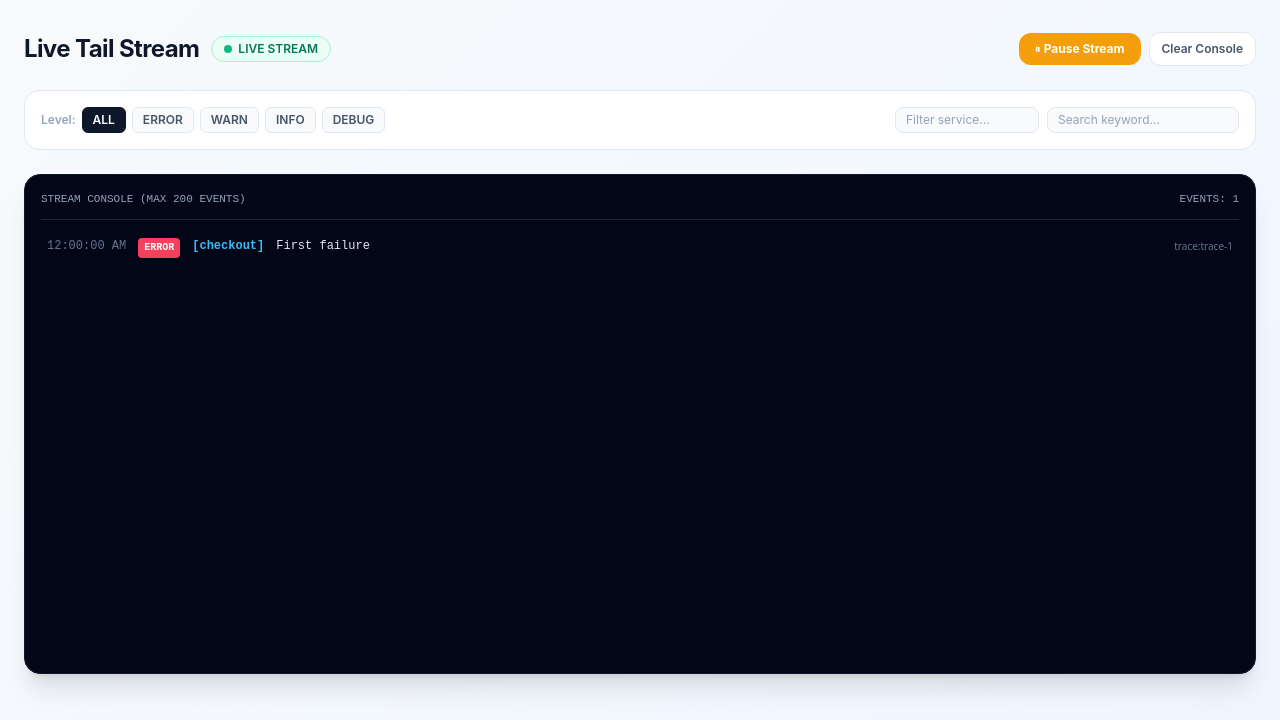
Scenario: LiveTailPage › connects, buffers while paused, resumes, filters, and clears events
Check: the text "LIVE STREAM" is shown, box [211, 36, 331, 62]
Check: the text "First failure" is shown, box [276, 239, 370, 253]
Click the button "⏸ Pause Stream" at (1080, 49), box [1019, 33, 1140, 65]
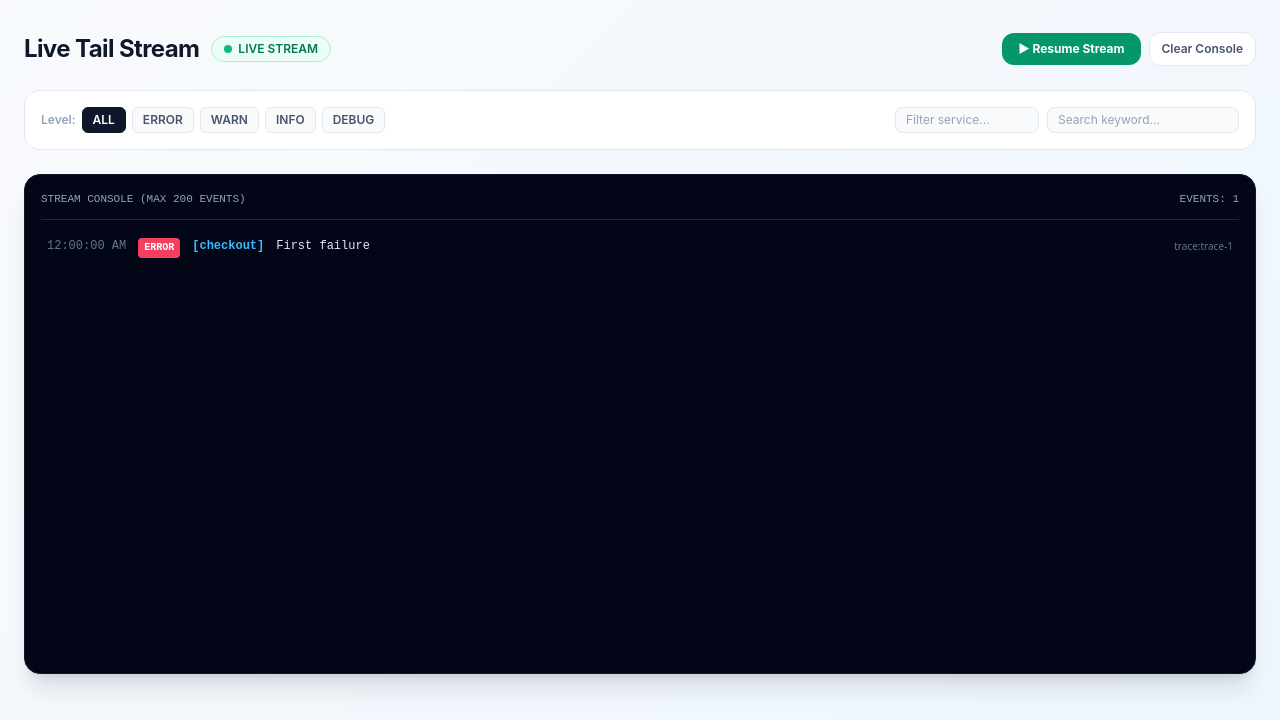
Check: the text "Buffered retry" is not shown
Click the button "▶ Resume Stream" at (1071, 49), box [1002, 33, 1140, 65]
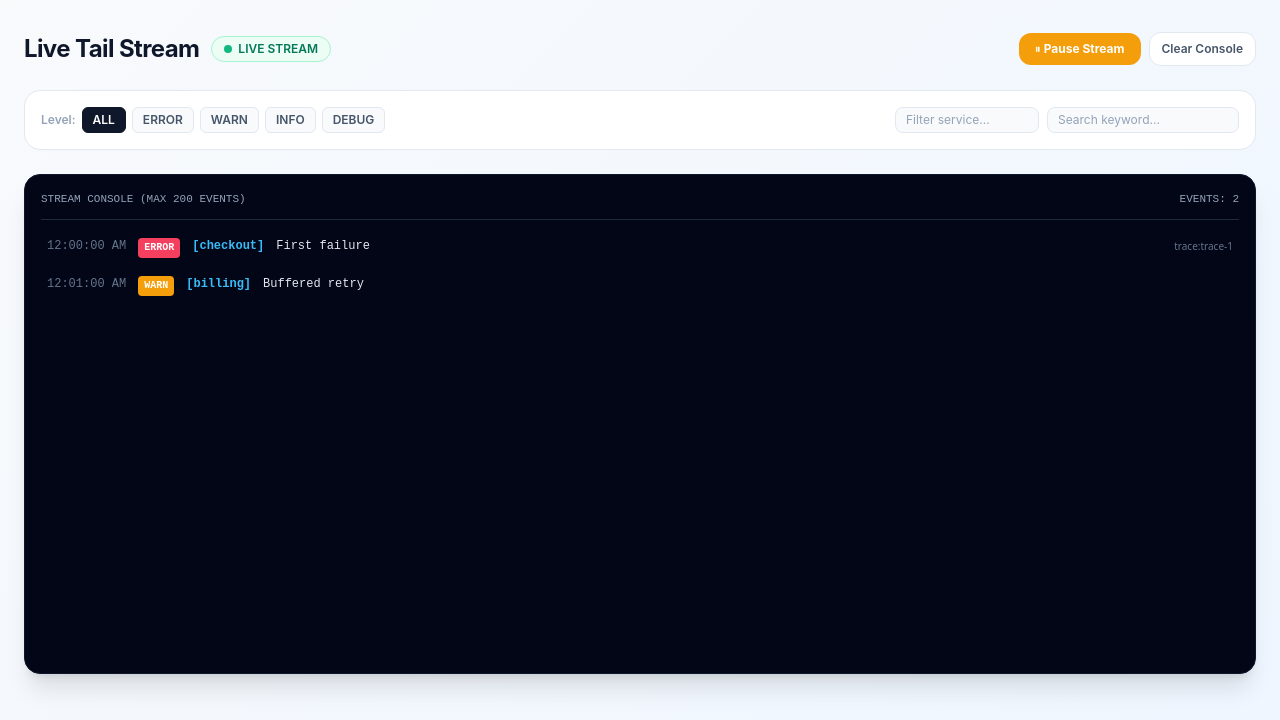
Check: the text "Buffered retry" is shown, box [263, 277, 364, 291]
Type "billing" into the field with placeholder "Filter service..." at (967, 120), box [895, 107, 1039, 133]
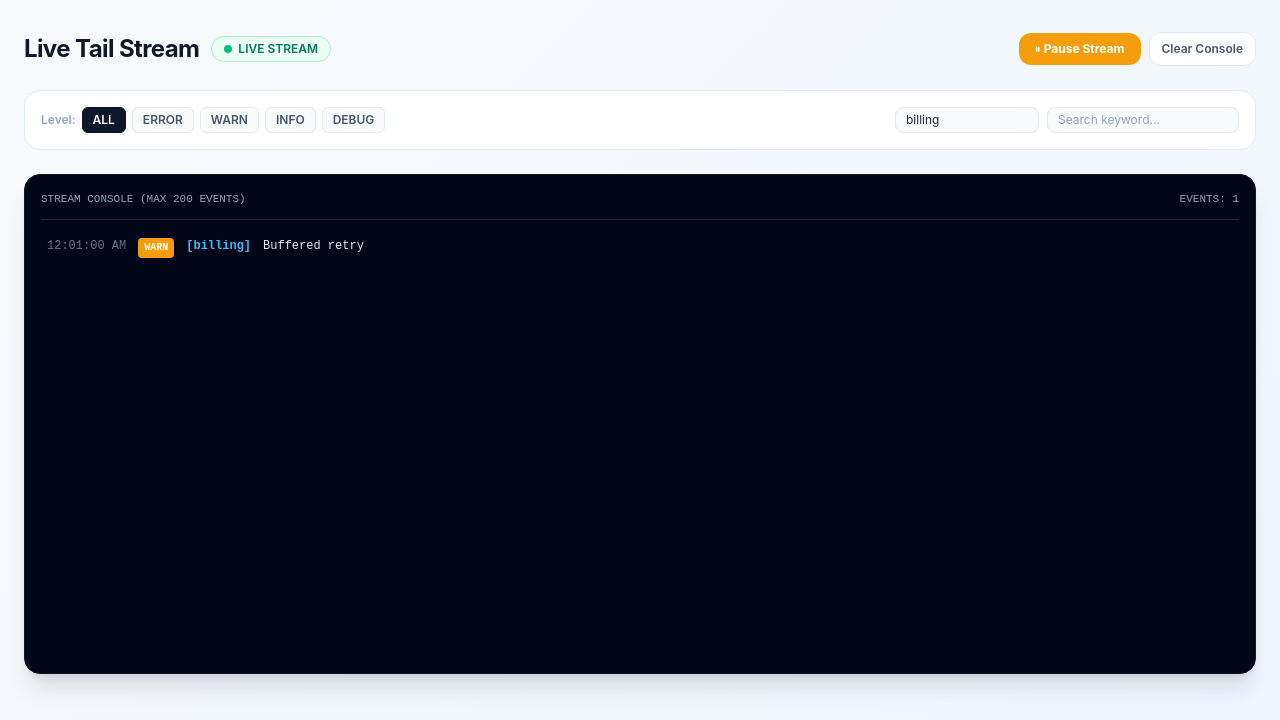
Check: the text "EVENTS: 1" is shown, box [1180, 191, 1239, 207]
Click the button "Clear Console" at (1202, 49), box [1148, 32, 1256, 66]
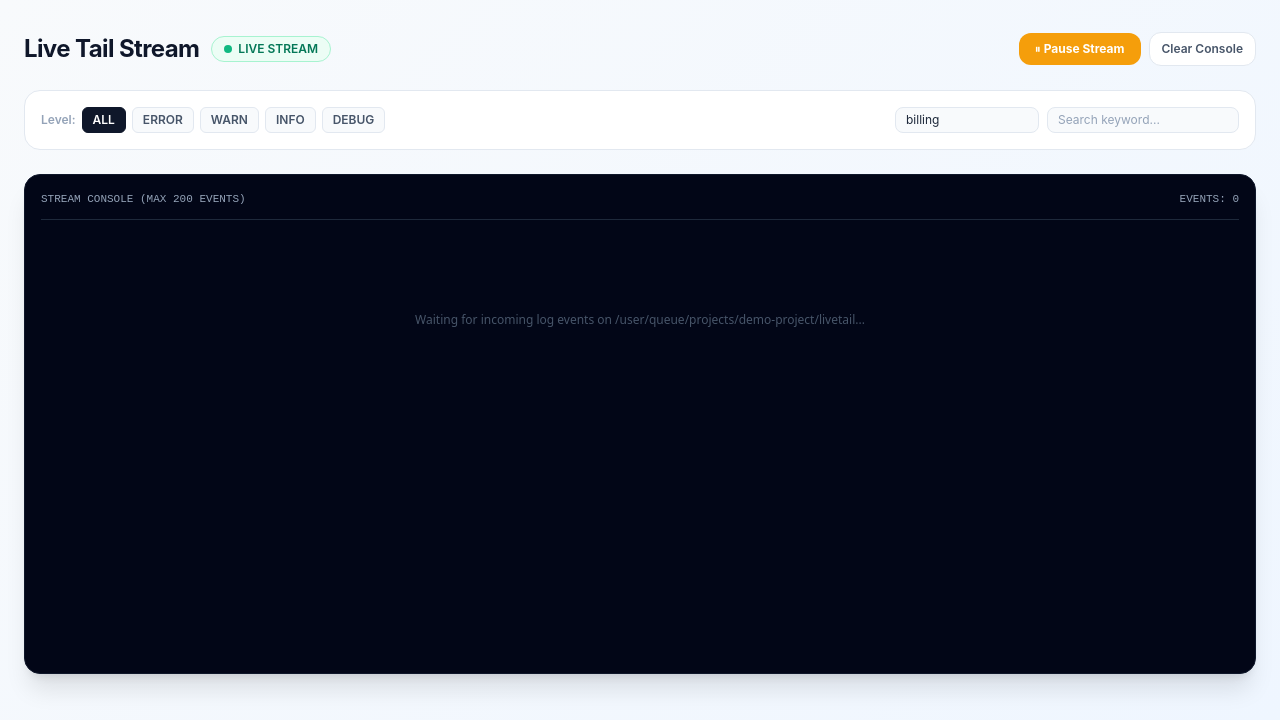
Check: the text "Buffered retry" is gone
Check: the text "EVENTS: 0" is shown, box [1180, 191, 1239, 207]
